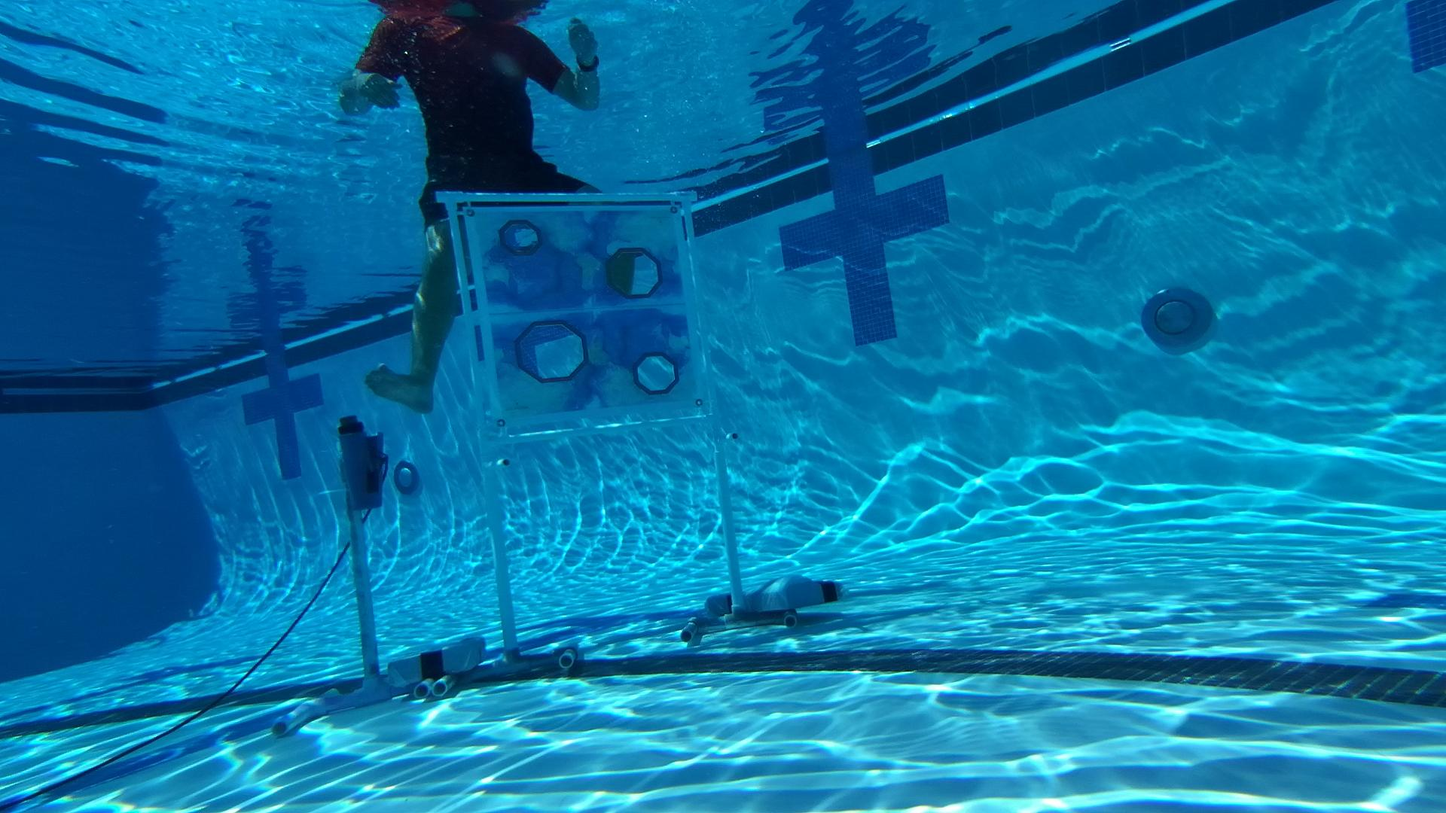red octagon: (519, 320, 589, 383), (610, 246, 661, 300), (629, 351, 686, 398), (498, 217, 540, 257)
